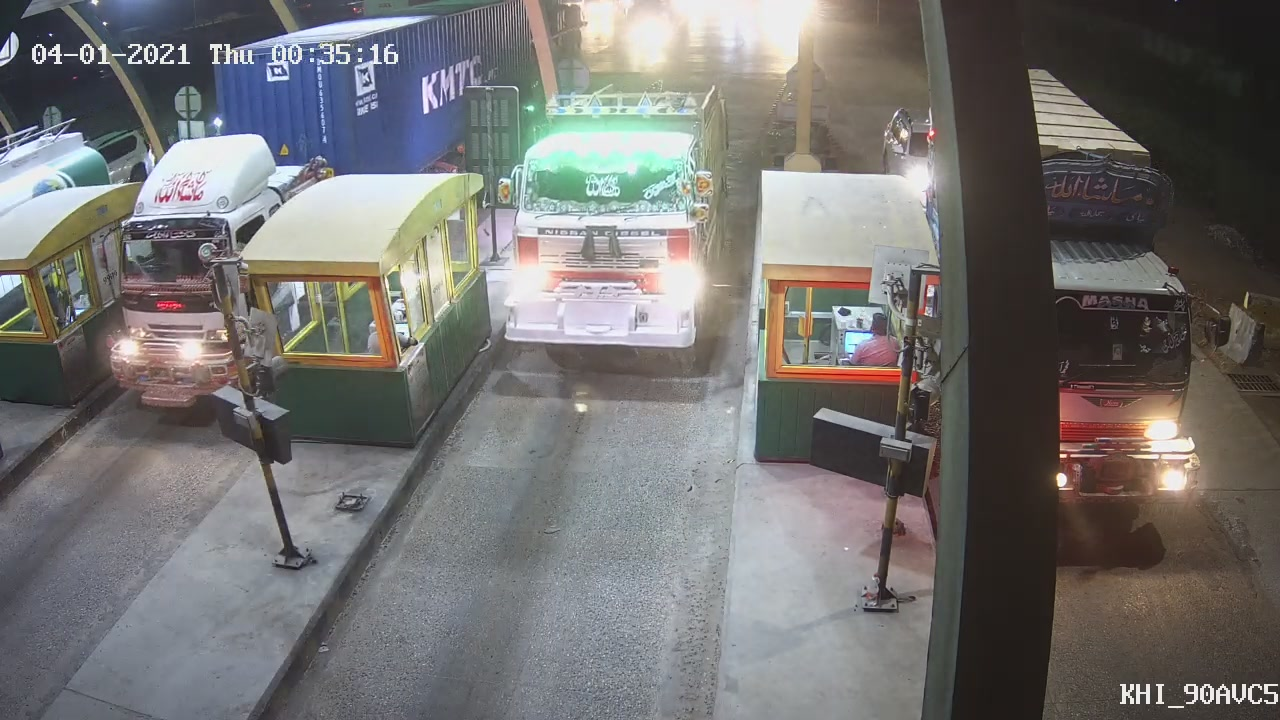F5: (495, 85, 719, 376)
